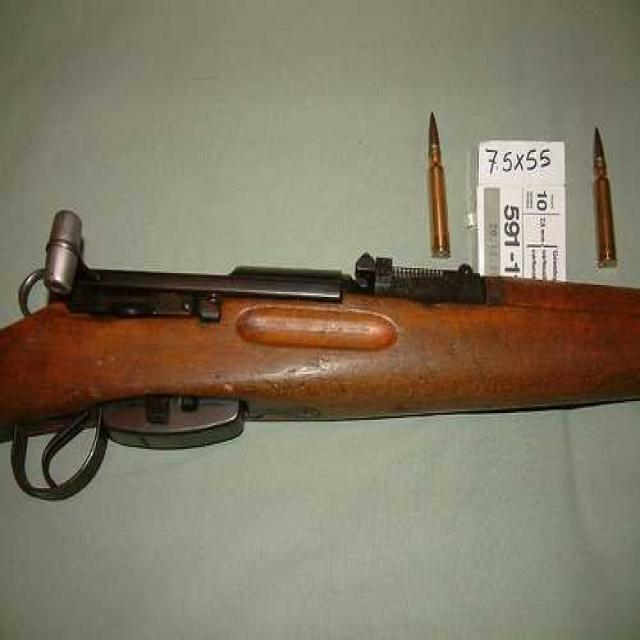weapon: (0, 242, 640, 505)
